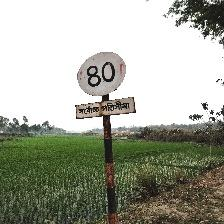Speed-limit: (75, 51, 134, 120)
